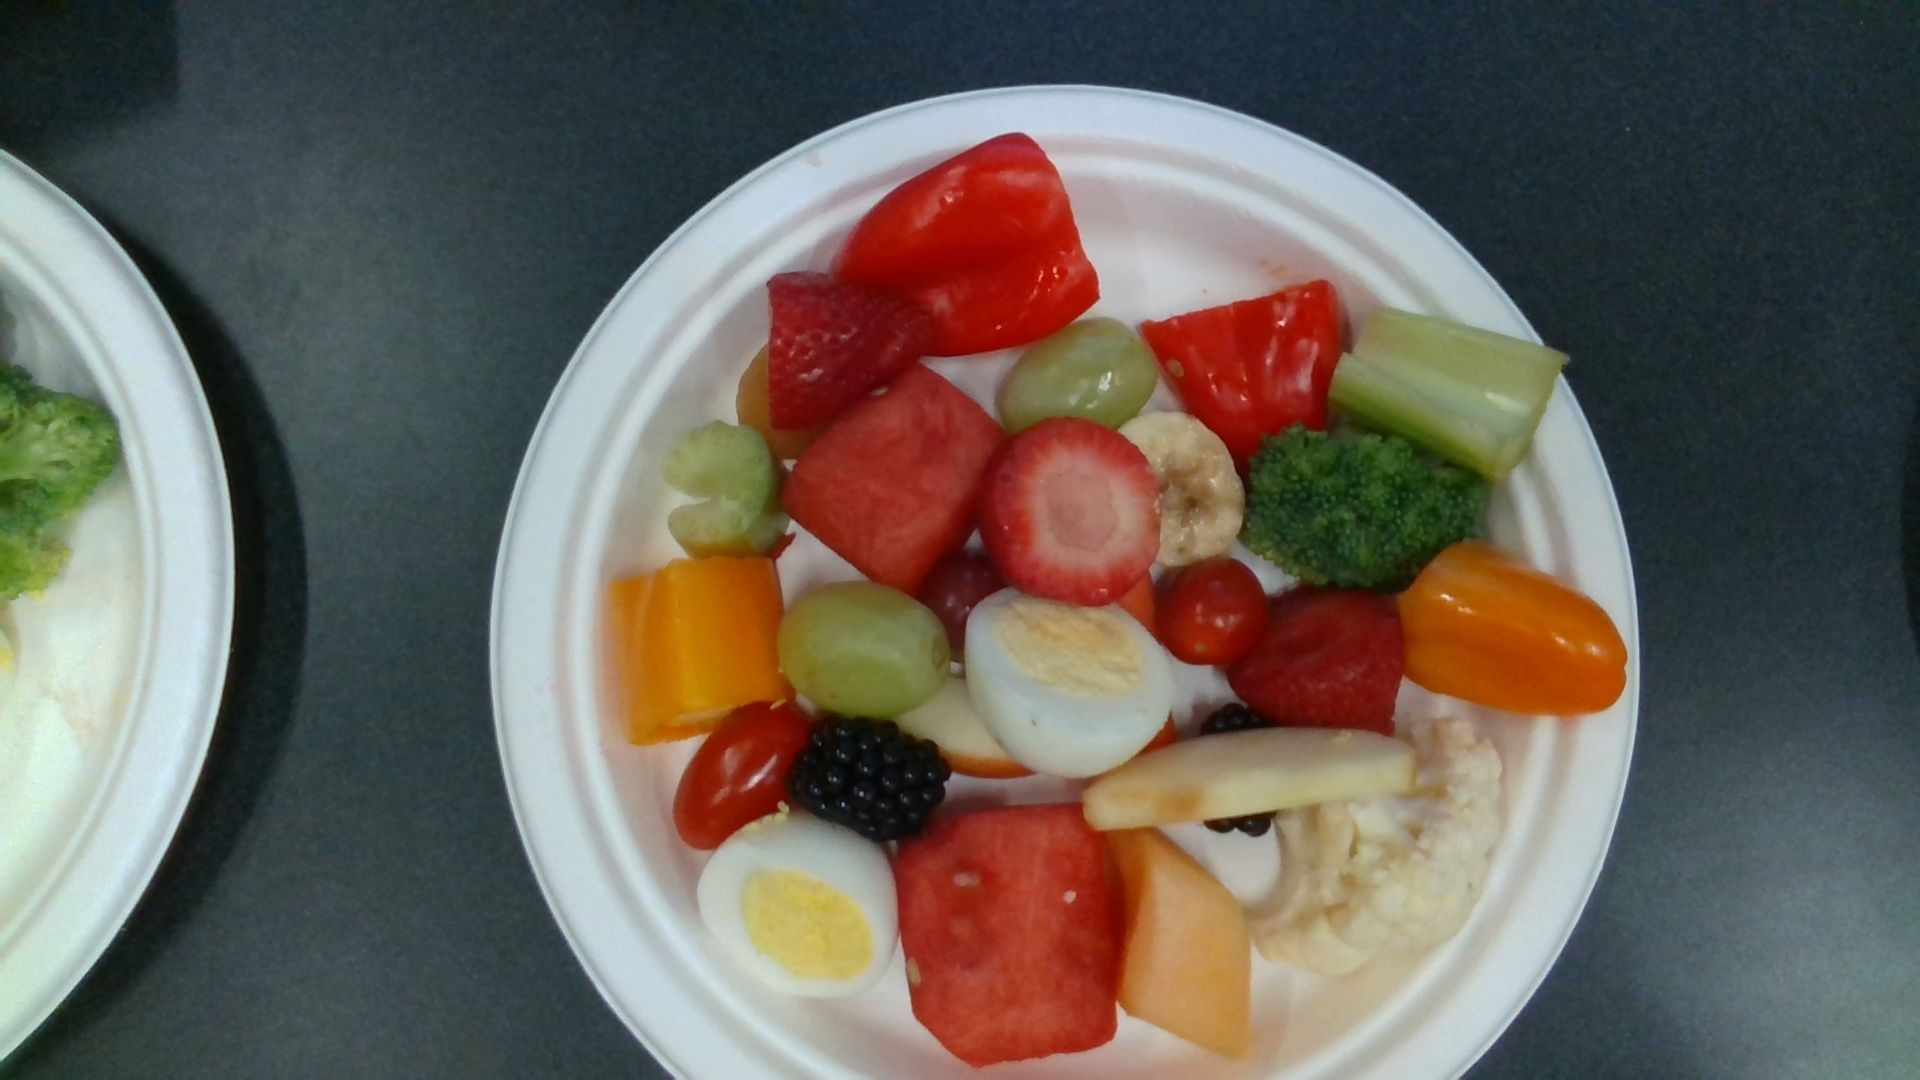apple: (1083, 727, 1414, 836)
banana: (1122, 413, 1242, 566)
bell_pepper: (829, 131, 1095, 353), (1399, 545, 1625, 713), (1145, 281, 1345, 460), (615, 558, 785, 742)
blackberry: (793, 720, 945, 837)
broccoli: (1244, 429, 1494, 585)
cantalope: (1124, 829, 1244, 1056)
cauliflower: (1251, 716, 1499, 975)
celery: (1323, 310, 1565, 477), (665, 426, 781, 558)
cherry_tomato: (676, 705, 800, 847), (1159, 556, 1265, 659)
egg: (965, 585, 1172, 778), (698, 816, 899, 1005)
grape_green: (775, 585, 949, 716), (997, 323, 1159, 425)
melon: (909, 808, 1120, 1069), (785, 365, 996, 591)
strawberry: (985, 423, 1160, 605), (1229, 593, 1404, 740), (769, 273, 932, 429)
